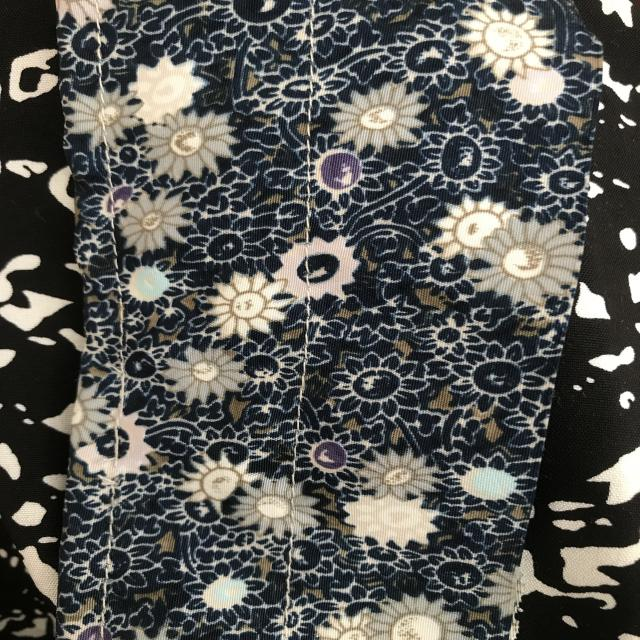good: (298, 40, 323, 156), (288, 321, 309, 422)
